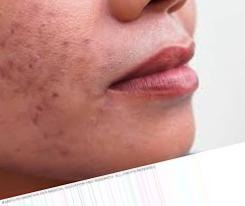Acne: (1, 22, 114, 156)
